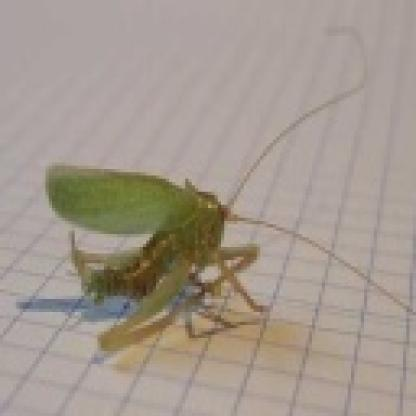grasshopper: (40, 134, 287, 342)
